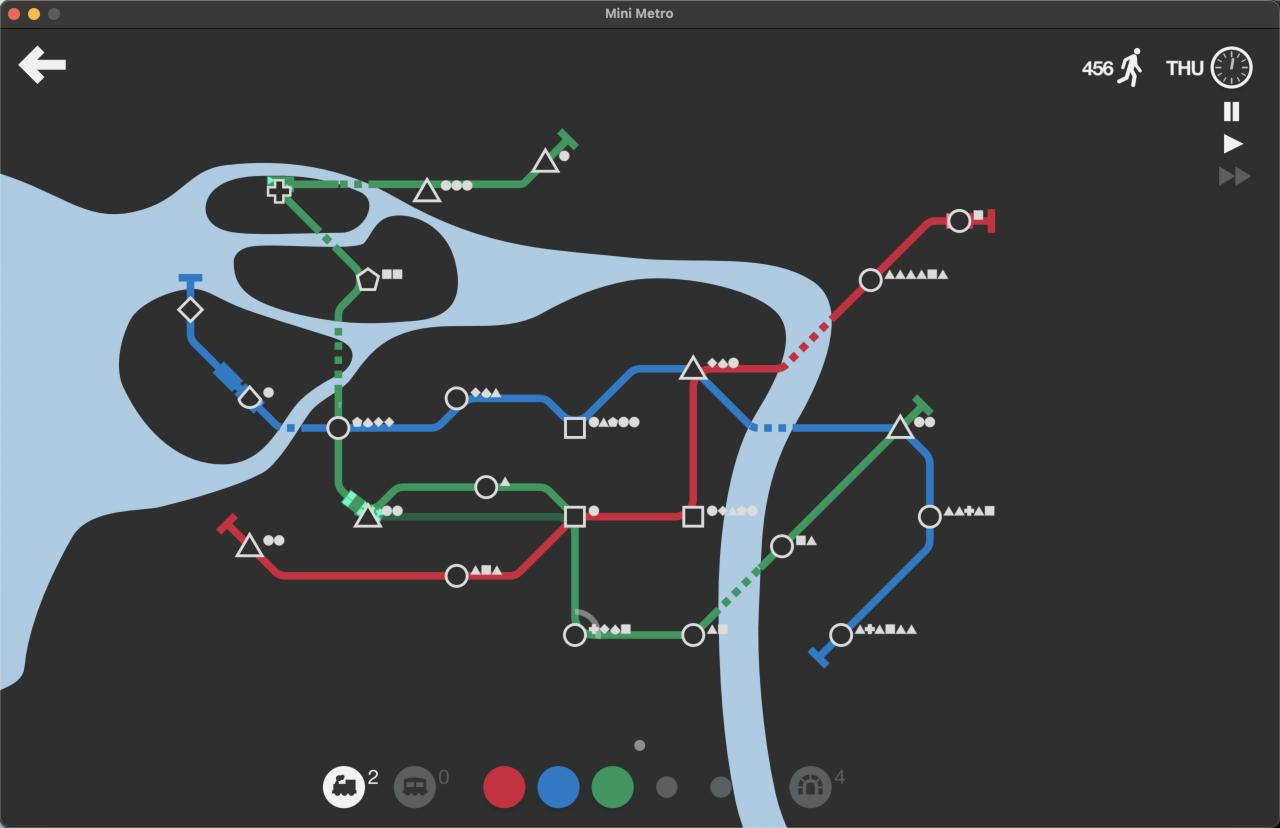CIRCLE: (769, 533, 795, 559), (444, 563, 470, 589), (858, 267, 883, 293), (828, 622, 853, 648), (474, 474, 499, 500), (681, 622, 706, 648), (562, 622, 587, 648), (917, 504, 942, 529), (326, 415, 351, 440), (947, 208, 972, 233), (444, 386, 468, 411)
CROSS: (266, 178, 293, 204)
GEM: (177, 297, 204, 322), (356, 267, 381, 292)
SQUARE: (563, 416, 587, 439), (563, 505, 587, 528), (682, 505, 705, 528)
TRIANGLE: (530, 146, 560, 174), (353, 503, 384, 530), (885, 413, 915, 440), (412, 176, 442, 203), (679, 354, 708, 380), (235, 532, 264, 558)
WEDGE: (237, 384, 263, 411)
